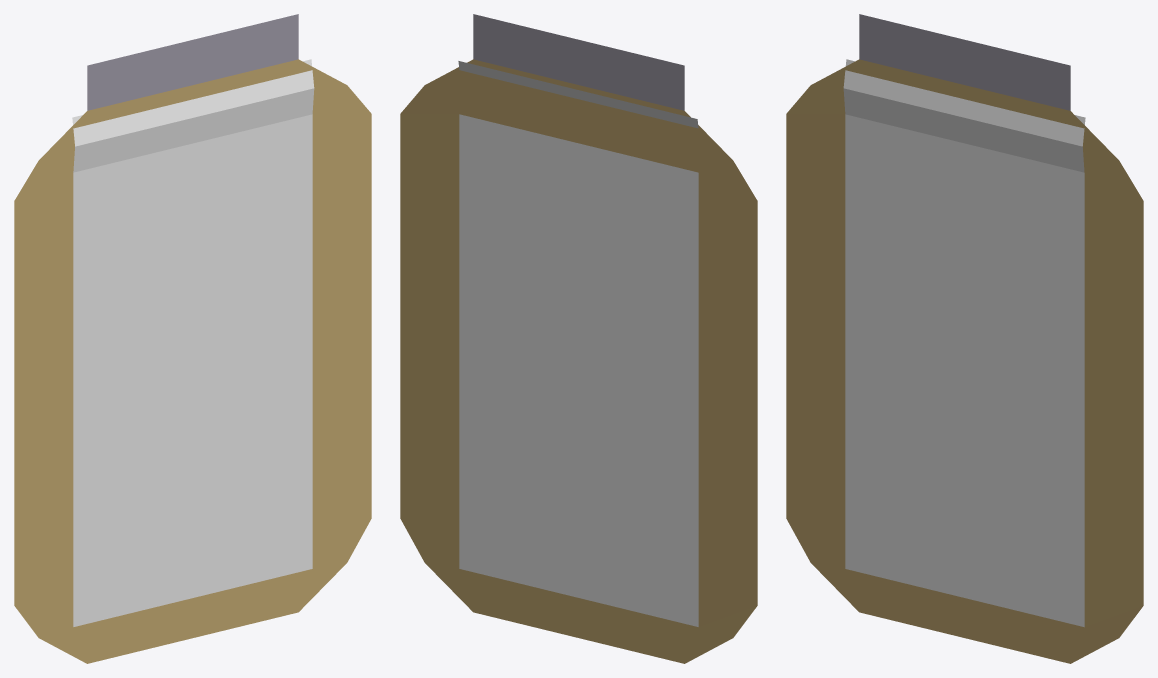
File: clipboard.dae
3 views of the same model, side by side, from view 1: azimuth 30°, elevation 25°; view 2: azimuth 150°, elevation 25°; view 3: azimuth 330°, elevation 25° (orthographic).
Visible parts, largest first — view 1: clipboard; view 2: clipboard; view 3: clipboard.
Part boxes in pixels (x1=…): clipboard: x1=14, y1=14, x2=371, y2=663; clipboard: x1=400, y1=14, x2=757, y2=663; clipboard: x1=786, y1=14, x2=1143, y2=663.
Size of the model in its own units: 0.4895 by 0.00666 by 0.783.
1 material, 1 textured.
